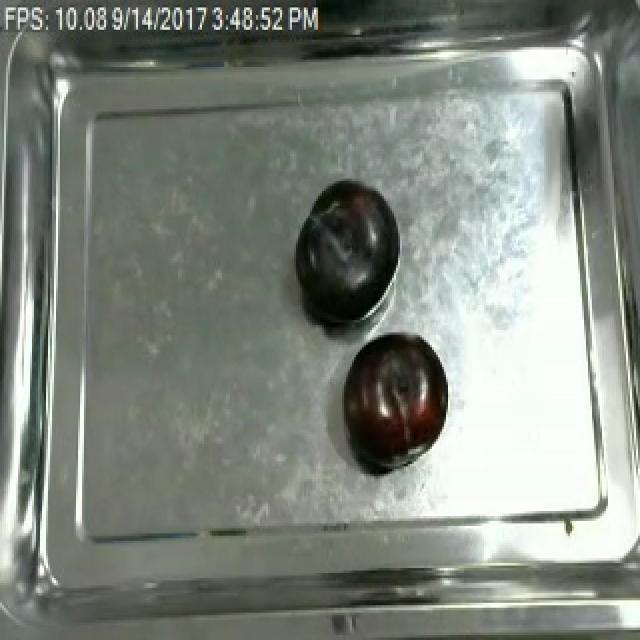Fruit: (288, 174, 402, 332), (334, 327, 452, 474)
